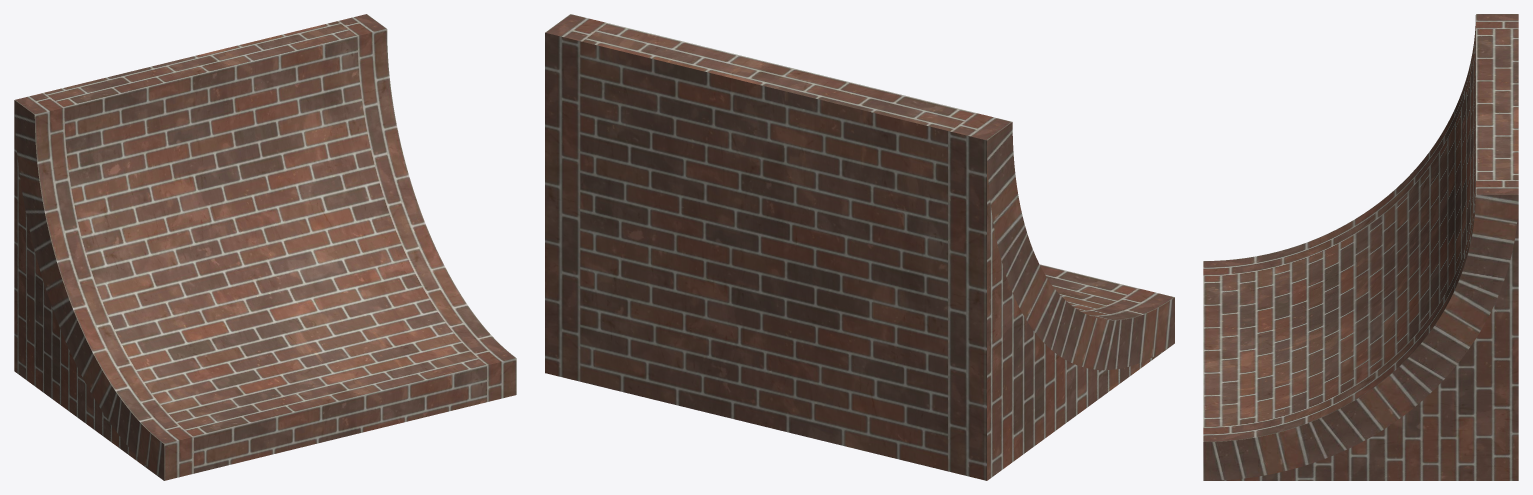
Rendered from ramp_90_convex.dae.
3 views of the same model, side by side, from view 1: azimuth 30°, elevation 25°; view 2: azimuth 150°, elevation 25°; view 3: azimuth 270°, elevation 25° (orthographic). The views are drawn at different scales.
Visible parts, largest first — view 1: group_0 (×3); view 2: group_0 (×3); view 3: group_0 (×3).
Boxes of the visible parts, x1,y1,x2,y2 form: group_0 (×3): [14, 14, 516, 480]; group_0 (×3): [545, 14, 1174, 480]; group_0 (×3): [1203, 14, 1518, 480].
Bounding box in the file's own units: 39.37 × 28.98 × 28.98.
Materials: 3 (3 with a texture image).
